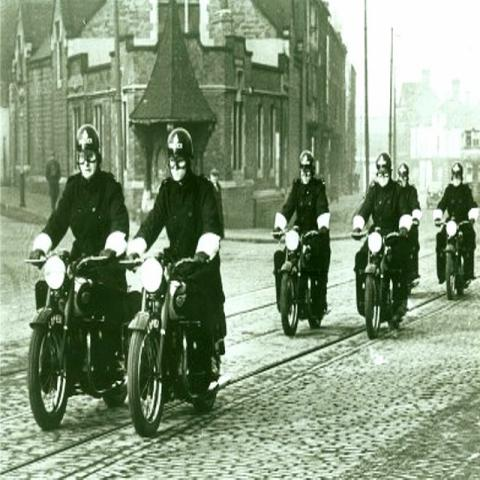motorcycle: (22, 250, 142, 429), (119, 255, 221, 438), (348, 227, 407, 341), (272, 211, 322, 336), (434, 217, 474, 299), (402, 236, 420, 298)
